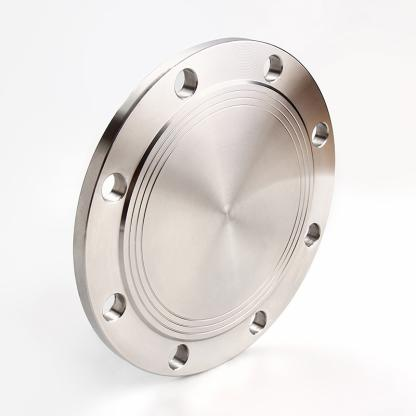FOD: (73, 30, 345, 384)
